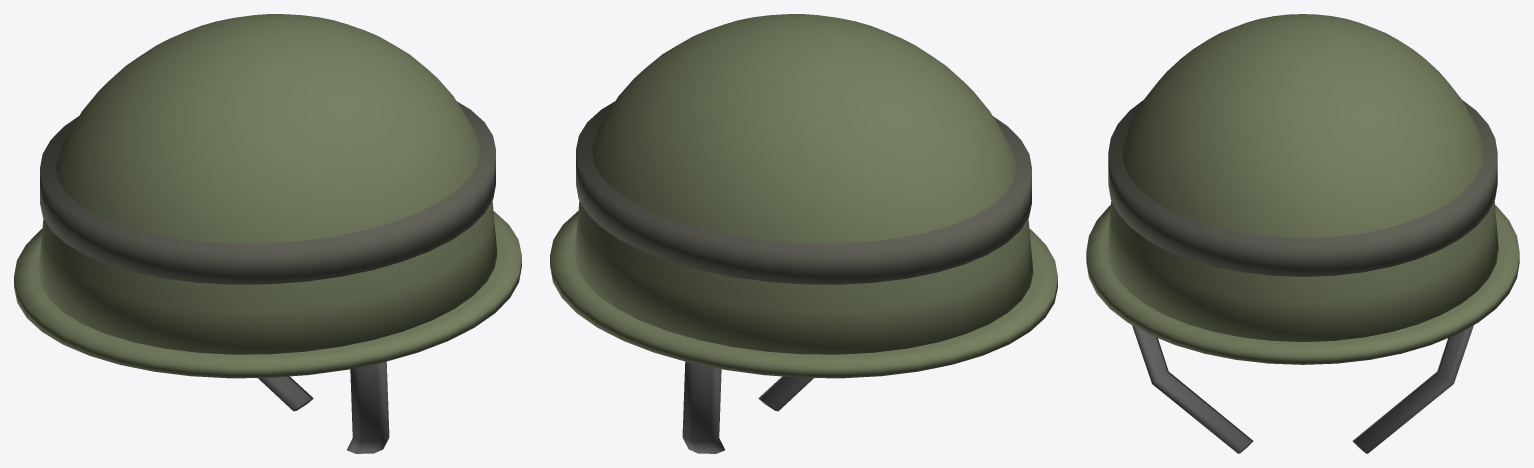
File: SM_CombatHelmet.glb
The picture shows the model from 3 angles, left to right: view 1: azimuth 30°, elevation 25°; view 2: azimuth 150°, elevation 25°; view 3: azimuth 270°, elevation 25°; orthographic projection. The views are drawn at different scales.
Visible parts, largest first — view 1: SM_CombatHelmet; view 2: SM_CombatHelmet; view 3: SM_CombatHelmet.
Boxes of the visible parts, box(x1,y1,x2,y2) form: SM_CombatHelmet: box(14, 14, 521, 453); SM_CombatHelmet: box(550, 14, 1057, 453); SM_CombatHelmet: box(1086, 14, 1519, 453).
Bounding box in the file's own units: 0.3405 × 0.2972 × 0.304.
